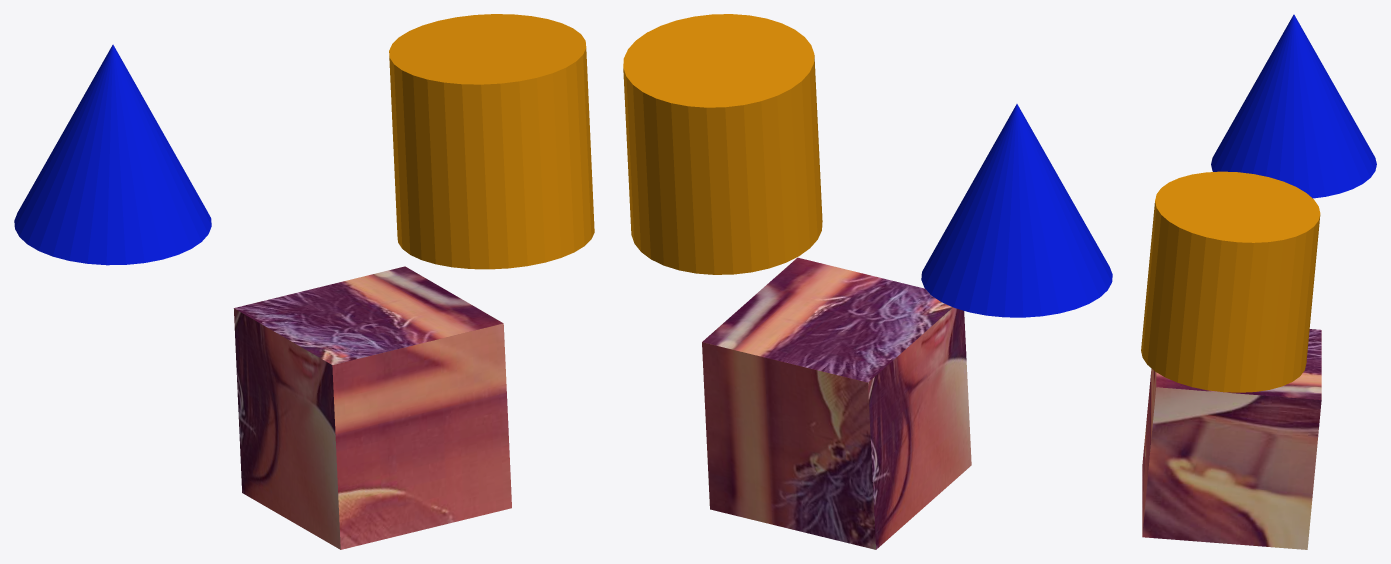
The picture shows the model from 3 angles, left to right: view 1: azimuth 30°, elevation 25°; view 2: azimuth 150°, elevation 25°; view 3: azimuth 270°, elevation 25°; orthographic projection. The views are drawn at different scales.
Parts seen in each view (by area): view 1: Cube, Cylinder, Cone; view 2: Cube, Cylinder, Cone; view 3: Cylinder, Cube, Cone.
Boxes of the visible parts, bbox=[...] form: Cube: bbox=[233, 266, 511, 549]; Cylinder: bbox=[389, 14, 594, 269]; Cone: bbox=[14, 44, 211, 265]; Cube: bbox=[702, 257, 971, 549]; Cylinder: bbox=[623, 14, 822, 274]; Cone: bbox=[921, 104, 1112, 317]; Cylinder: bbox=[1141, 171, 1320, 392]; Cube: bbox=[1142, 329, 1321, 549]; Cone: bbox=[1211, 14, 1376, 198].
Bounding box in the file's own units: 5.98 × 5.45 × 2.84.
3 materials, 1 textured.
